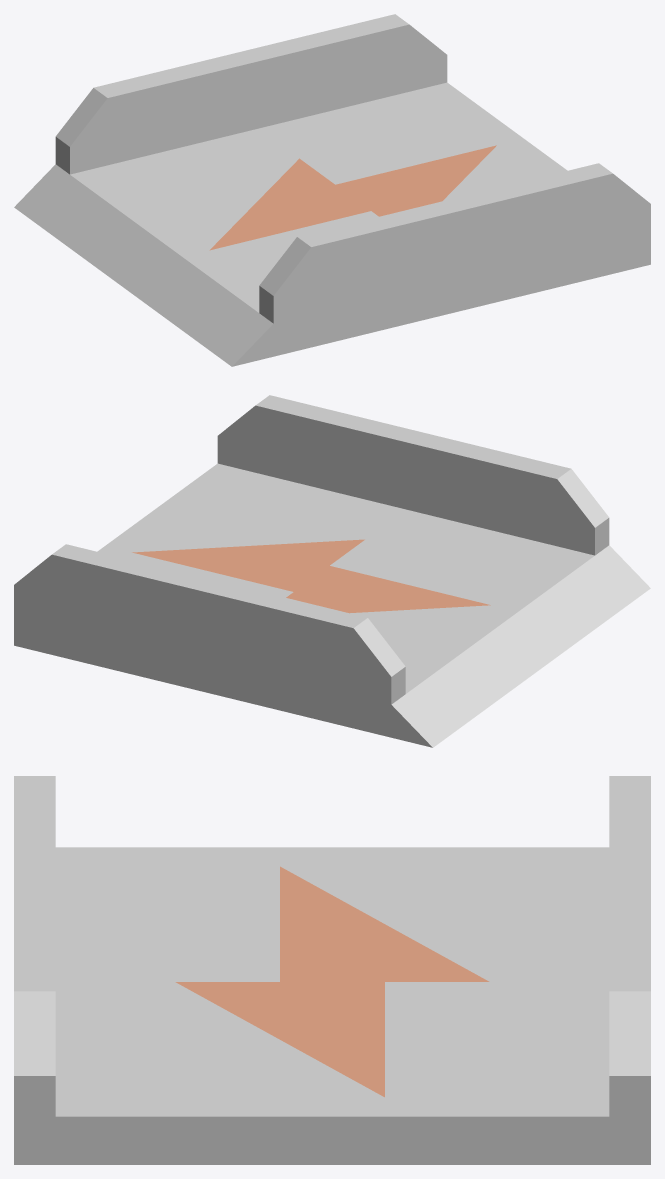
The model's file is chargeStation.fbx.
3 views of the same model, one above another, from view 1: azimuth 30°, elevation 25°; view 2: azimuth 150°, elevation 25°; view 3: azimuth 270°, elevation 25° (orthographic). The views are drawn at different scales.
Parts seen in each view (by area): view 1: Cube; view 2: Cube; view 3: Cube.
Boxes of the visible parts, left/top/right/bottom form: Cube: left=14, top=14, right=650, bottom=366; Cube: left=14, top=395, right=650, bottom=747; Cube: left=14, top=776, right=650, bottom=1164.
Size of the model in its own units: 222 by 50.78 by 200.
